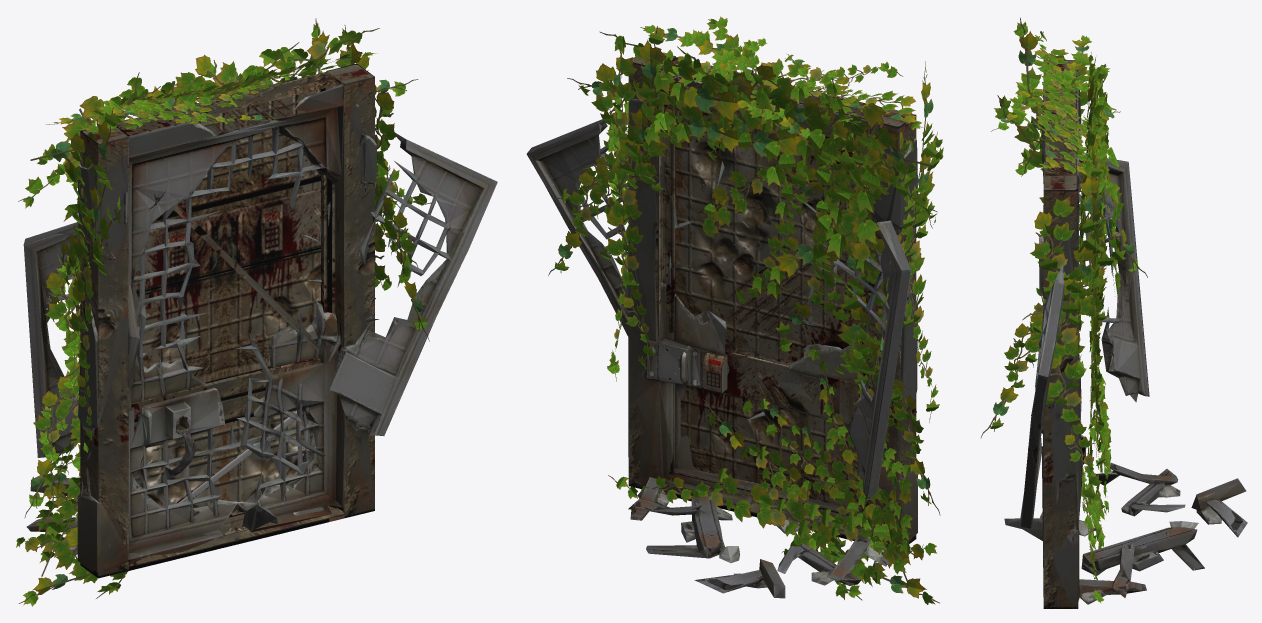
File: P_MetalDoor_001_S1_M01.obj
3 views of the same model, side by side, from view 1: azimuth 30°, elevation 25°; view 2: azimuth 150°, elevation 25°; view 3: azimuth 270°, elevation 25° (orthographic). The views are drawn at different scales.
Bounding box in the file's own units: 3.27 × 3.75 × 1.76.
15 materials, 15 textured.
